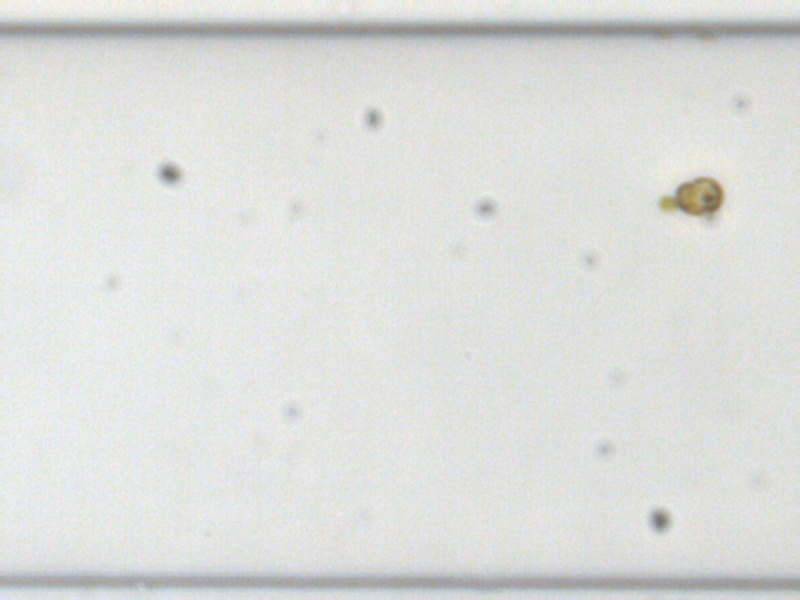Chlorella: (658, 194, 675, 212)
Effrenium: (672, 173, 724, 218)
